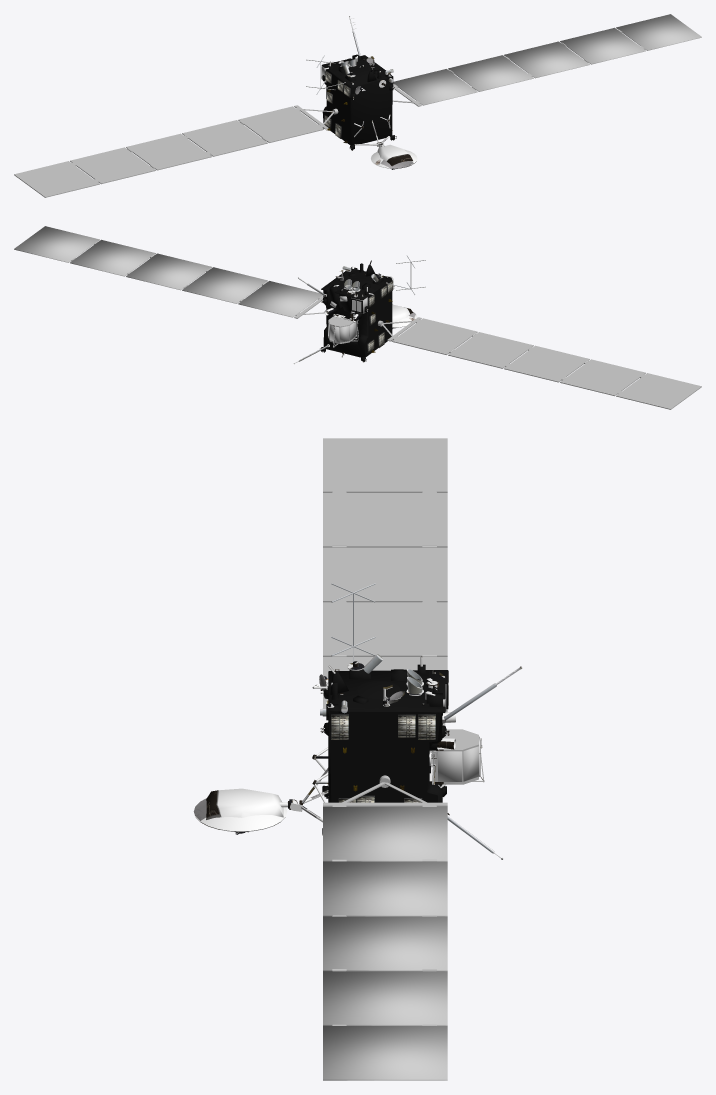
File: Rosetta.fbx
The picture shows the model from 3 angles, top to bottom: view 1: azimuth 30°, elevation 25°; view 2: azimuth 150°, elevation 25°; view 3: azimuth 270°, elevation 25°; orthographic projection. The views are drawn at different scales.
Visible parts, largest first — view 1: panels_02, panels_01, black_krinkle, dish, vents; view 2: panels_02, panels_01, black_krinkle, dish, vents, black, vents_004; view 3: panels_01, panels_02, black_krinkle, dish, vents, vents_004.
Part boxes in pixels (bbox=[...]): panels_02: bbox=[14, 105, 338, 197]; panels_01: bbox=[392, 14, 701, 106]; black_krinkle: bbox=[321, 55, 412, 166]; dish: bbox=[306, 16, 417, 169]; vents: bbox=[324, 71, 393, 138]; panels_02: bbox=[378, 317, 701, 409]; panels_01: bbox=[14, 226, 324, 318]; black_krinkle: bbox=[321, 263, 413, 361]; dish: bbox=[293, 255, 425, 363]; vents: bbox=[323, 280, 393, 352]; black: bbox=[329, 285, 362, 319]; vents_004: bbox=[328, 321, 355, 342]; panels_01: bbox=[323, 775, 447, 1080]; panels_02: bbox=[323, 438, 447, 716]; black_krinkle: bbox=[206, 664, 448, 833]; dish: bbox=[193, 583, 522, 859]; vents: bbox=[331, 714, 435, 802]; vents_004: bbox=[438, 736, 479, 781].
Size of the model in its own units: 31.96 by 4.55 by 6.92.
